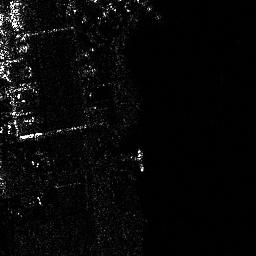ship: (136, 147, 144, 173)
